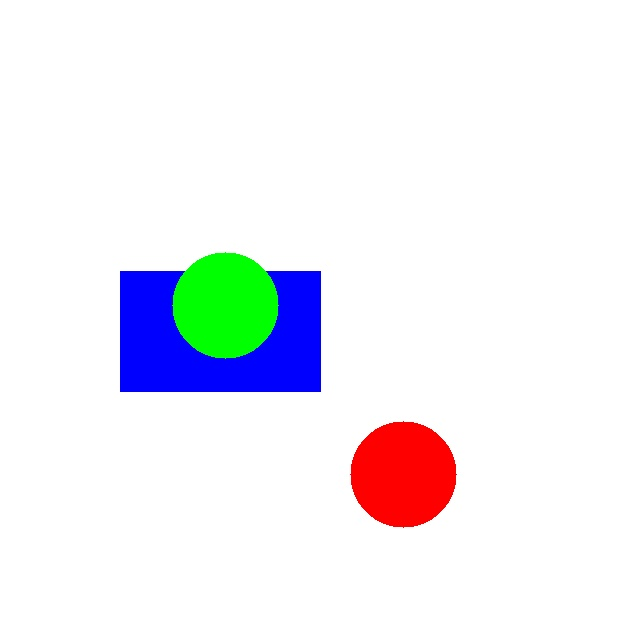cartao: (120, 271, 320, 391)
rosca_externa: (172, 252, 278, 358)
rosca_interna: (350, 421, 456, 527)
